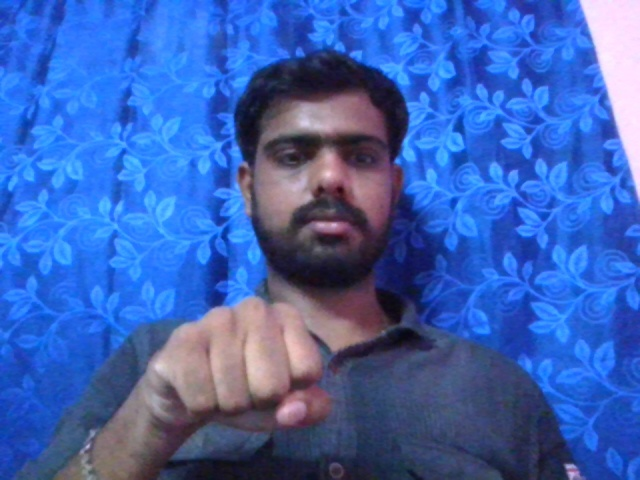Yes: (142, 294, 334, 437)
